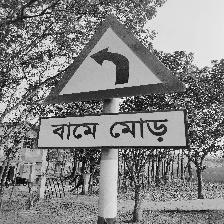Left-Turn: (38, 14, 190, 146)
